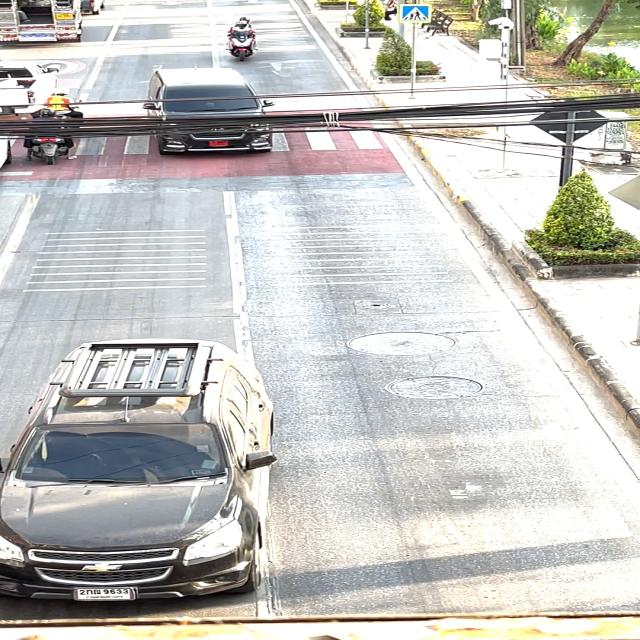car: (1, 330, 300, 616), (137, 60, 279, 165)
